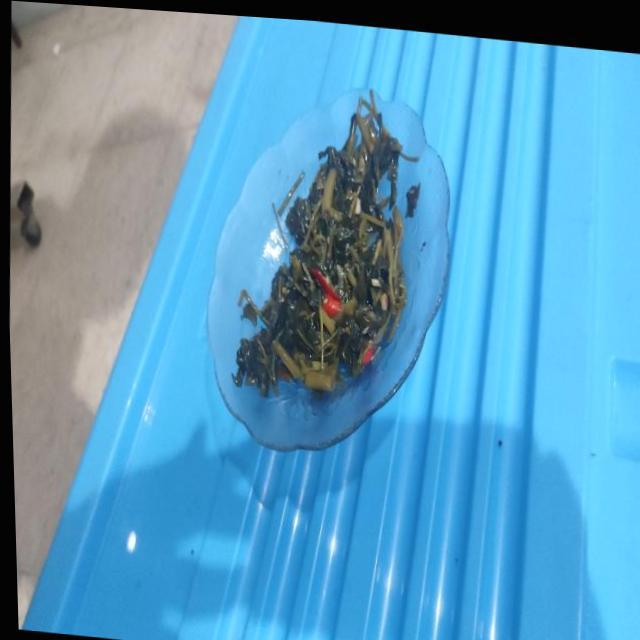tumis_kangkung: (232, 91, 418, 396)
